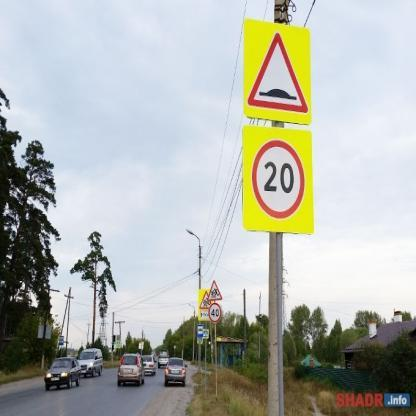road_sign: (243, 124, 312, 233), (244, 19, 311, 124), (209, 280, 223, 301), (209, 302, 222, 323)
